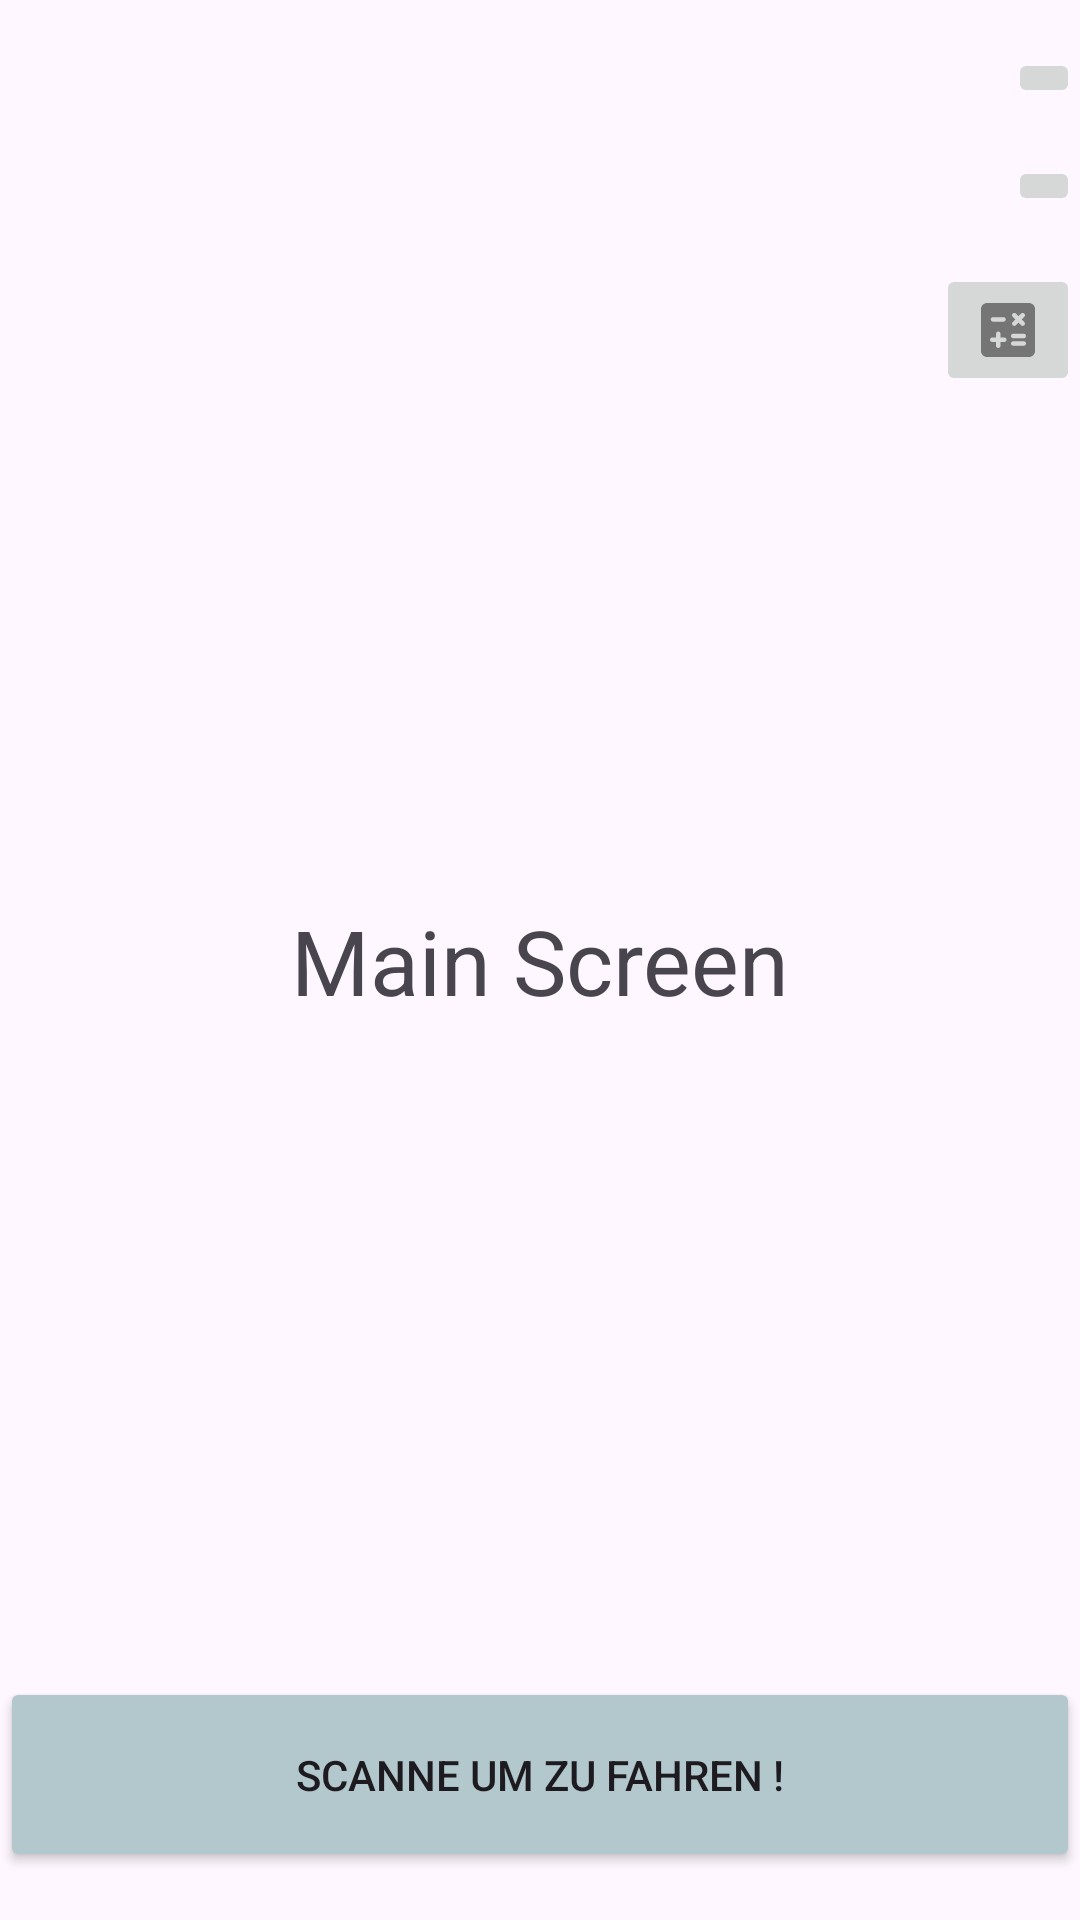

Where icons sit on this 1080 × 1920 app screen, as {"x1": x1, "y1": y1, "x2": x2, "y2": y2}:
calculate: {"x1": 948, "y1": 282, "x2": 1068, "y2": 378}
